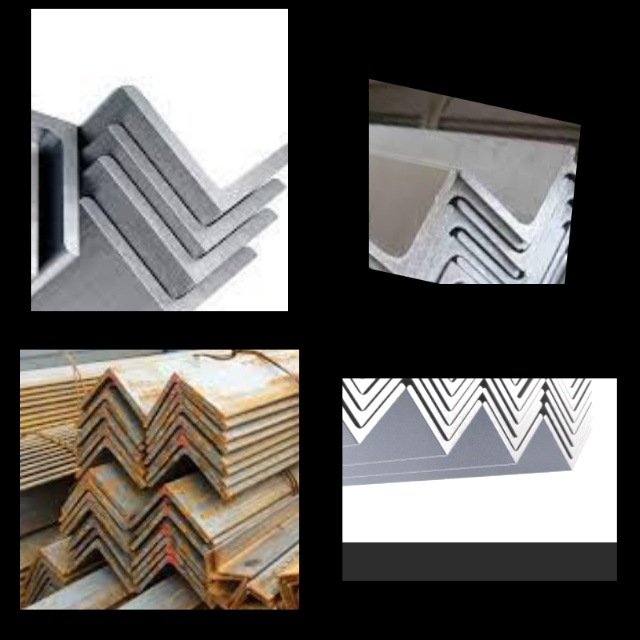Angle: (109, 164, 269, 270), (90, 202, 251, 307), (131, 94, 288, 200), (115, 128, 275, 232), (458, 130, 573, 243), (369, 159, 449, 279), (456, 179, 556, 269), (457, 214, 562, 284), (31, 89, 75, 247), (459, 217, 549, 284), (468, 241, 565, 284), (411, 389, 479, 447), (131, 490, 209, 538), (145, 376, 224, 423), (413, 378, 480, 431), (147, 389, 224, 434), (342, 378, 401, 436), (147, 399, 228, 441), (137, 501, 211, 546), (149, 410, 226, 452), (149, 442, 226, 484), (151, 453, 226, 496), (146, 421, 224, 462), (142, 560, 211, 606), (77, 391, 138, 441), (149, 434, 225, 474), (78, 410, 139, 459), (135, 541, 205, 582), (134, 512, 204, 552), (79, 444, 143, 487), (136, 529, 203, 570), (84, 372, 142, 418), (486, 406, 540, 455), (67, 507, 127, 551), (61, 497, 125, 538), (487, 380, 541, 428), (485, 394, 539, 441), (413, 378, 479, 416), (77, 545, 131, 591), (138, 552, 203, 590), (342, 378, 403, 418), (61, 486, 124, 524), (65, 475, 126, 514), (82, 425, 140, 465), (532, 223, 570, 284), (80, 434, 141, 472), (70, 524, 125, 566), (546, 418, 592, 463), (488, 378, 542, 416), (548, 393, 593, 438), (547, 408, 593, 451), (549, 383, 592, 428), (415, 378, 482, 403), (550, 378, 592, 416), (342, 378, 404, 403), (490, 378, 542, 405), (369, 231, 400, 274), (26, 554, 63, 583), (548, 378, 590, 403), (214, 552, 249, 578), (276, 573, 299, 610), (205, 557, 241, 580), (31, 563, 62, 585), (487, 378, 539, 391), (32, 578, 60, 601)
